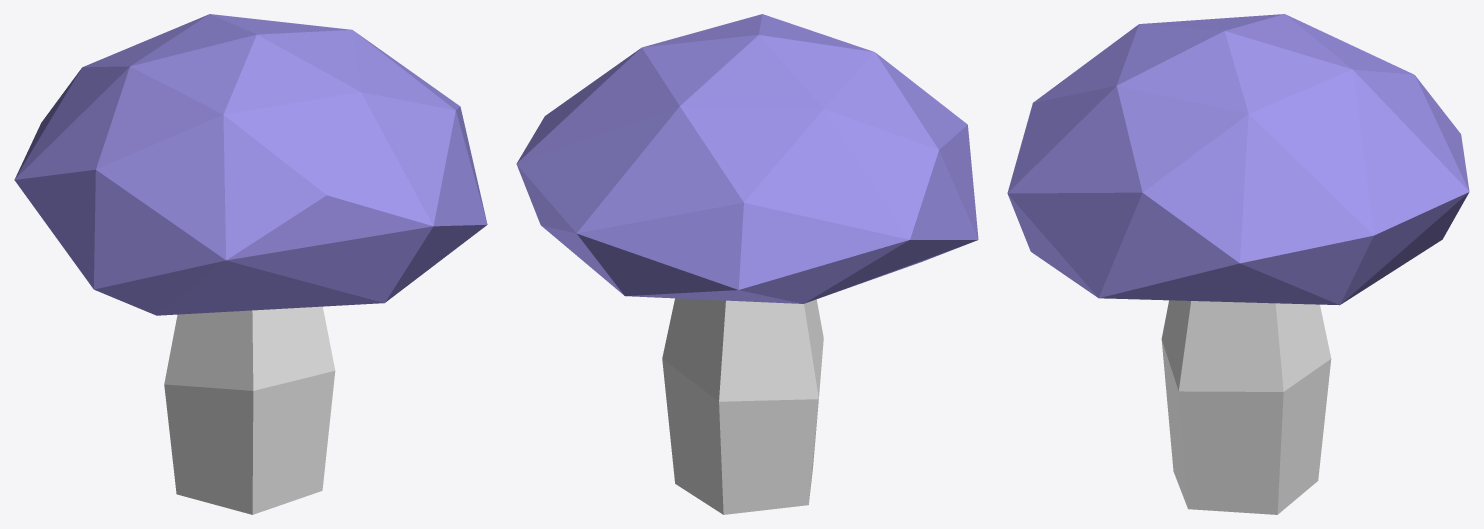
File: Mushroom_k_02.fbx
The picture shows the model from 3 angles, left to right: view 1: azimuth 30°, elevation 25°; view 2: azimuth 150°, elevation 25°; view 3: azimuth 270°, elevation 25°; orthographic projection. The views are drawn at different scales.
Visible parts, largest first — view 1: Mushroom_k_02; view 2: Mushroom_k_02; view 3: Mushroom_k_02.
Part boxes in pixels (bbox=[...]): Mushroom_k_02: bbox=[14, 14, 487, 514]; Mushroom_k_02: bbox=[516, 14, 978, 514]; Mushroom_k_02: bbox=[1007, 14, 1469, 514].
Size of the model in its own units: 25.68 by 27.21 by 25.04.
